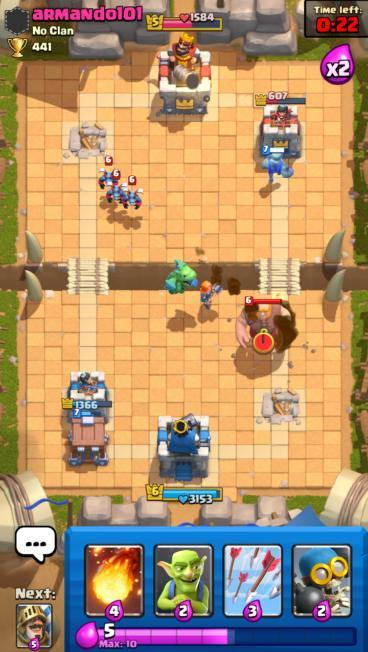ally_baby_dragon: (162, 260, 201, 297)
ally_brawler: (259, 143, 296, 185)
ally_goblin_cage: (65, 411, 113, 468)
ally_valkyrie: (197, 279, 220, 310)
enemy_giant: (233, 294, 294, 353)
enemy_minion: (119, 174, 145, 211), (97, 154, 119, 190), (105, 169, 126, 203)
